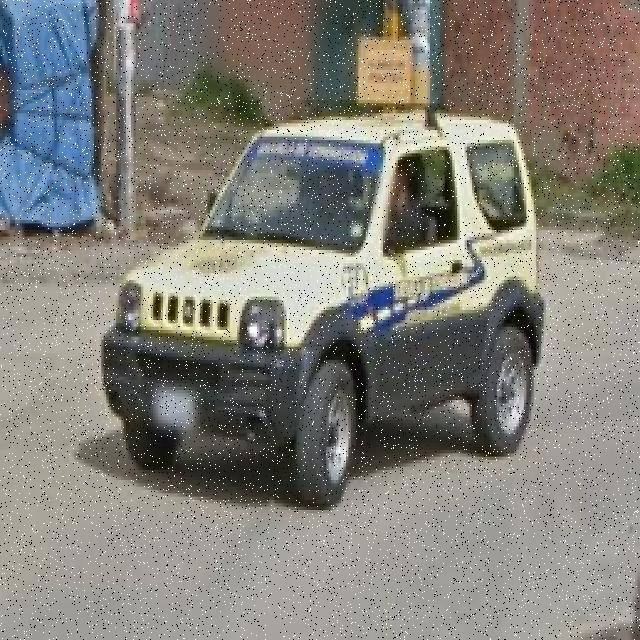cars: (109, 108, 548, 505)
